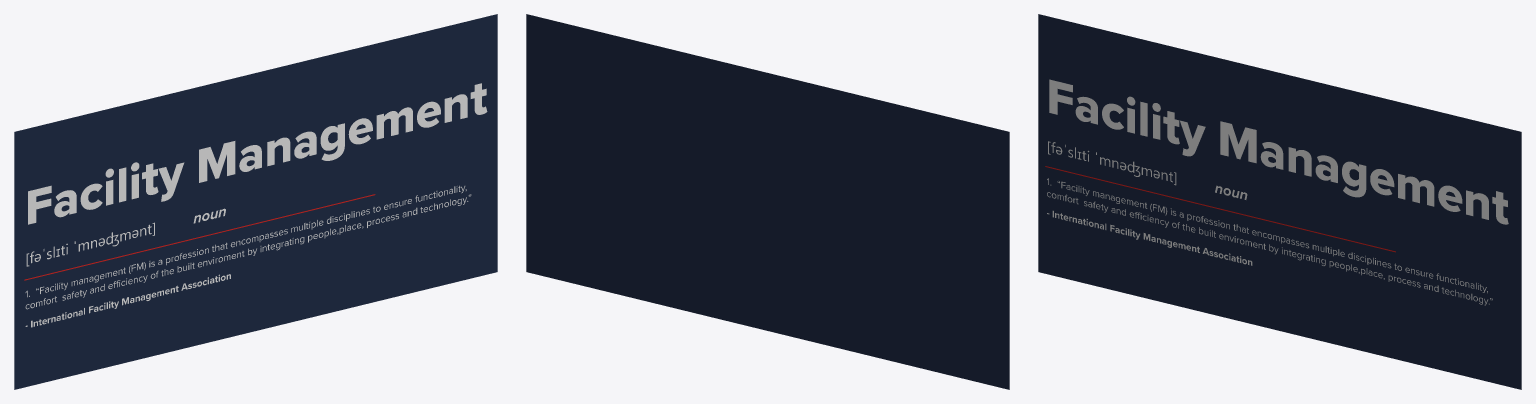
The model's file is 3D-animation-2.glb.
3 renders of one model, left to right at view 1: azimuth 30°, elevation 25°; view 2: azimuth 150°, elevation 25°; view 3: azimuth 330°, elevation 25°, orthographic.
Parts seen in each view (by area): view 1: Curve, Curve.534, Curve.540, Curve.538, Curve.001, Curve.526, Curve.533, Curve.537, Curve.527, Curve.536, Curve.542, Curve.535 (+2 smaller); view 2: Curve; view 3: Curve, Curve.534, Curve.540, Curve.538, Curve.001, Curve.526, Curve.533, Curve.535, Curve.537, Curve.541, Curve.536, Curve.539 (+2 smaller).
Boxes of the visible parts, <box> form: Curve: <box>14,14,497,389</box>; Curve.534: <box>199,141,235,182</box>; Curve.540: <box>376,107,412,139</box>; Curve.538: <box>320,123,344,160</box>; Curve.001: <box>24,194,375,280</box>; Curve.526: <box>28,185,51,224</box>; Curve.533: <box>158,162,184,201</box>; Curve.537: <box>294,131,316,158</box>; Curve.527: <box>54,190,76,217</box>; Curve.536: <box>267,137,290,166</box>; Curve.542: <box>444,94,467,122</box>; Curve.535: <box>239,145,261,171</box>; Curve: <box>526,14,1009,389</box>; Curve: <box>1038,14,1521,389</box>; Curve.534: <box>1220,121,1256,163</box>; Curve.540: <box>1398,174,1434,206</box>; Curve.538: <box>1342,161,1366,197</box>; Curve.001: <box>1045,166,1395,252</box>; Curve.526: <box>1049,79,1072,114</box>; Curve.533: <box>1180,120,1205,156</box>; Curve.535: <box>1260,142,1283,169</box>; Curve.537: <box>1315,155,1337,182</box>; Curve.541: <box>1438,185,1462,211</box>; Curve.536: <box>1288,147,1311,176</box>; Curve.539: <box>1370,169,1394,195</box>.
Bounding box in the file's own units: 12.9 × 6.58 × 0.2814.
